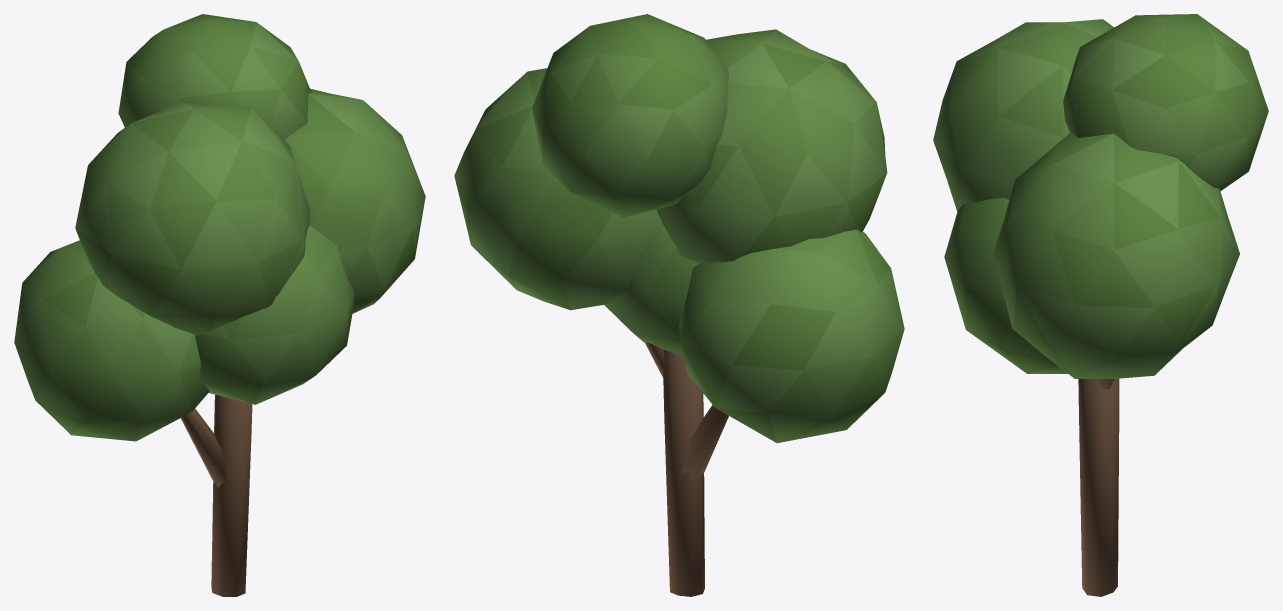
The model's file is tree.glb.
3 renders of one model, left to right at view 1: azimuth 30°, elevation 25°; view 2: azimuth 150°, elevation 25°; view 3: azimuth 270°, elevation 25°, orthographic. The views are drawn at different scales.
Visible parts, largest first — view 1: Body.013; view 2: Body.013; view 3: Body.013.
Part boxes in pixels (x1=…): Body.013: x1=14, y1=14, x2=425, y2=596; Body.013: x1=454, y1=14, x2=904, y2=596; Body.013: x1=933, y1=14, x2=1268, y2=596.
Size of the model in its own units: 2.73 by 3.71 by 1.96.
